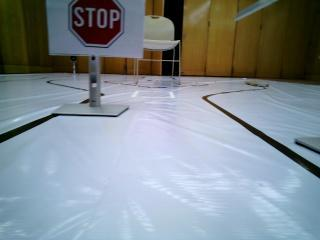stop: (49, 4, 146, 55)
